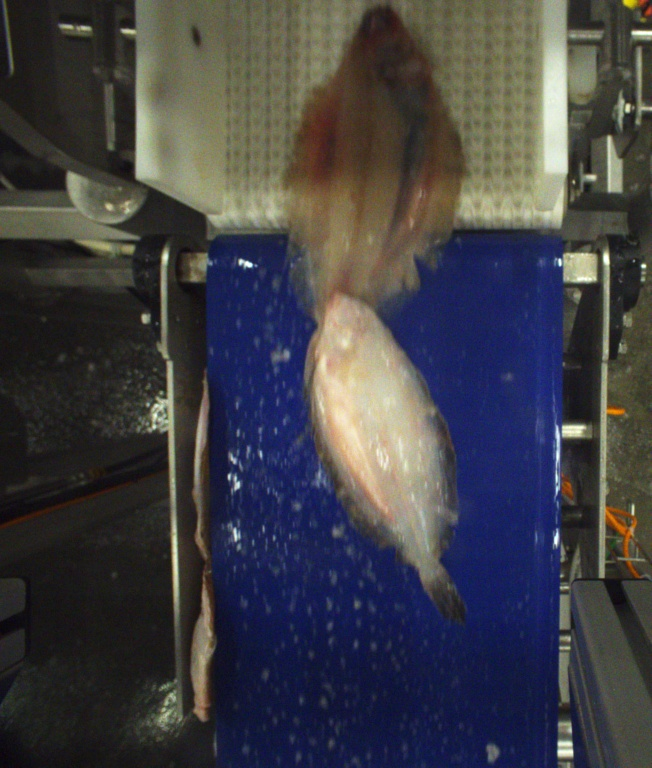WIT: (287, 7, 463, 323)
